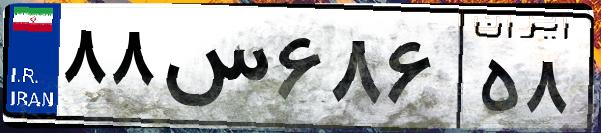5: (475, 38, 525, 113)
6: (270, 28, 330, 110), (385, 28, 445, 110)
8: (330, 28, 385, 110), (57, 26, 110, 100), (525, 38, 570, 115), (110, 28, 158, 98)
س: (158, 20, 270, 120)
